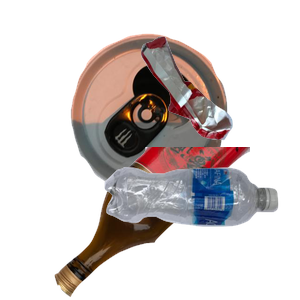glass: (52, 147, 292, 300)
metal: (68, 31, 288, 211)
plastic: (102, 165, 300, 300)
trash: (139, 34, 300, 167)
